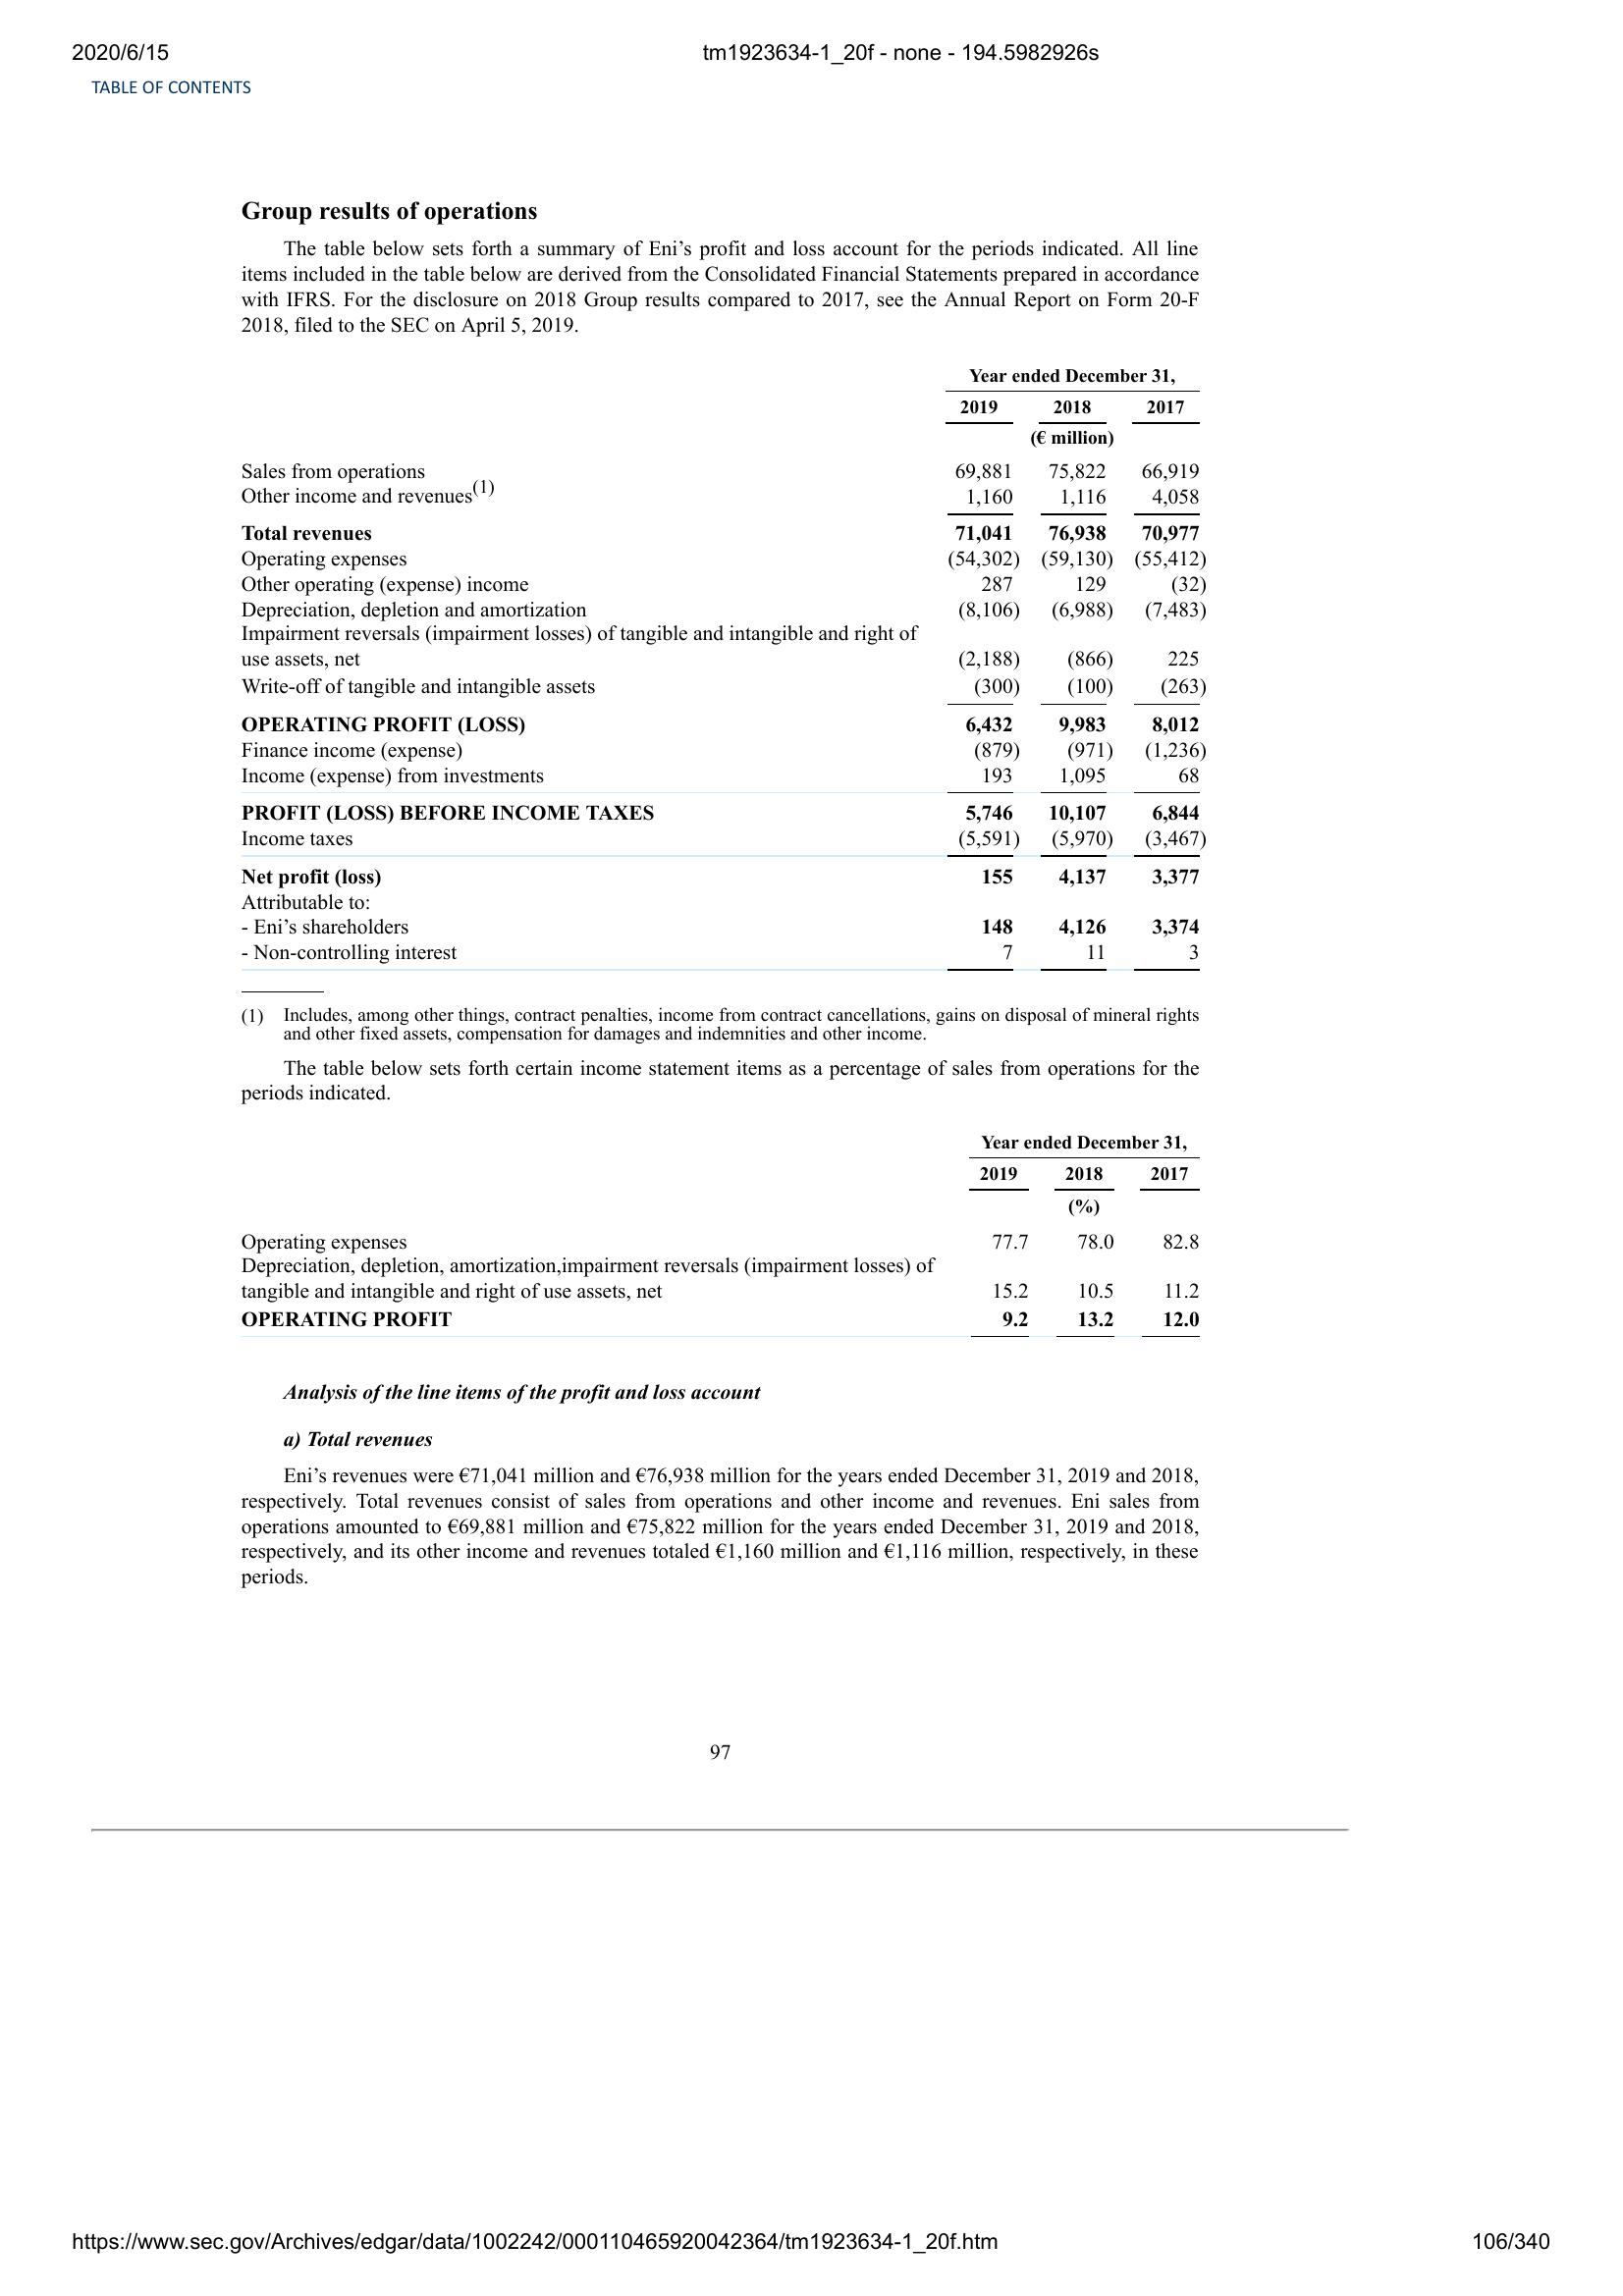table: (230, 356, 1208, 976), (237, 1125, 1208, 1341)
